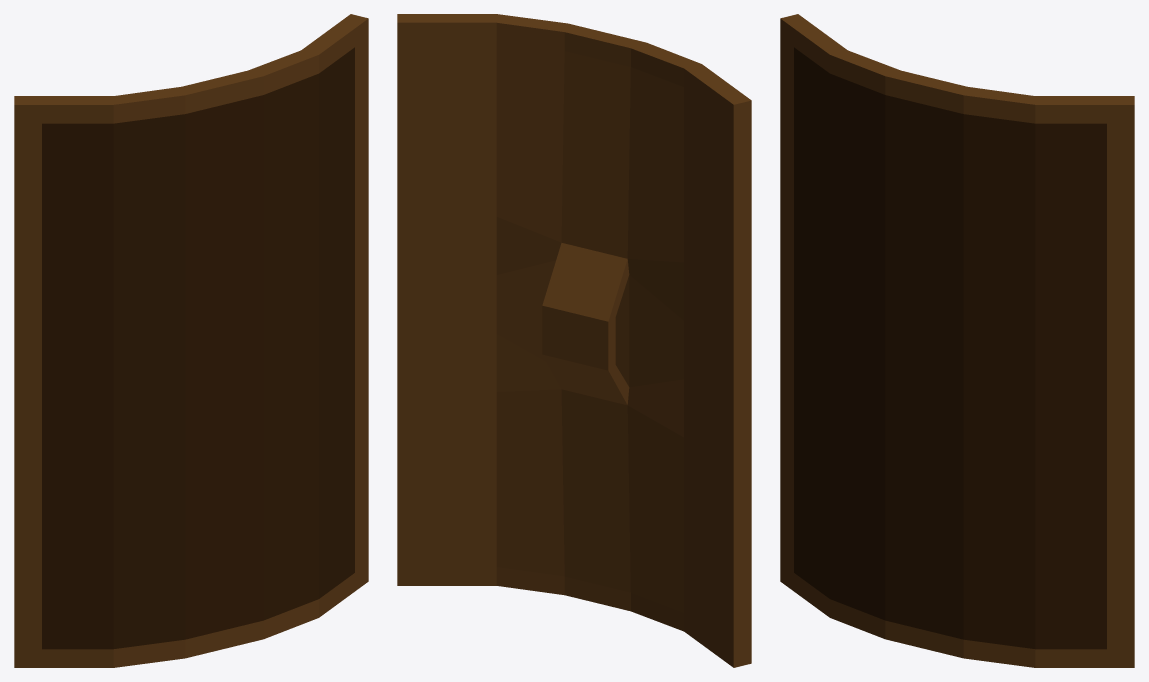
The model's file is BlackBronzeSquareShield.glb.
The picture shows the model from 3 angles, left to right: view 1: azimuth 30°, elevation 25°; view 2: azimuth 150°, elevation 25°; view 3: azimuth 330°, elevation 25°; orthographic projection.
Parts seen in each view (by area): view 1: SqShield; view 2: SqShield; view 3: SqShield.
Boxes of the visible parts, x1,y1,x2,y2 form: SqShield: (14, 14, 368, 667); SqShield: (397, 14, 751, 667); SqShield: (780, 14, 1134, 667).
Bounding box in the file's own units: 0.3953 × 0.6 × 0.0811.
